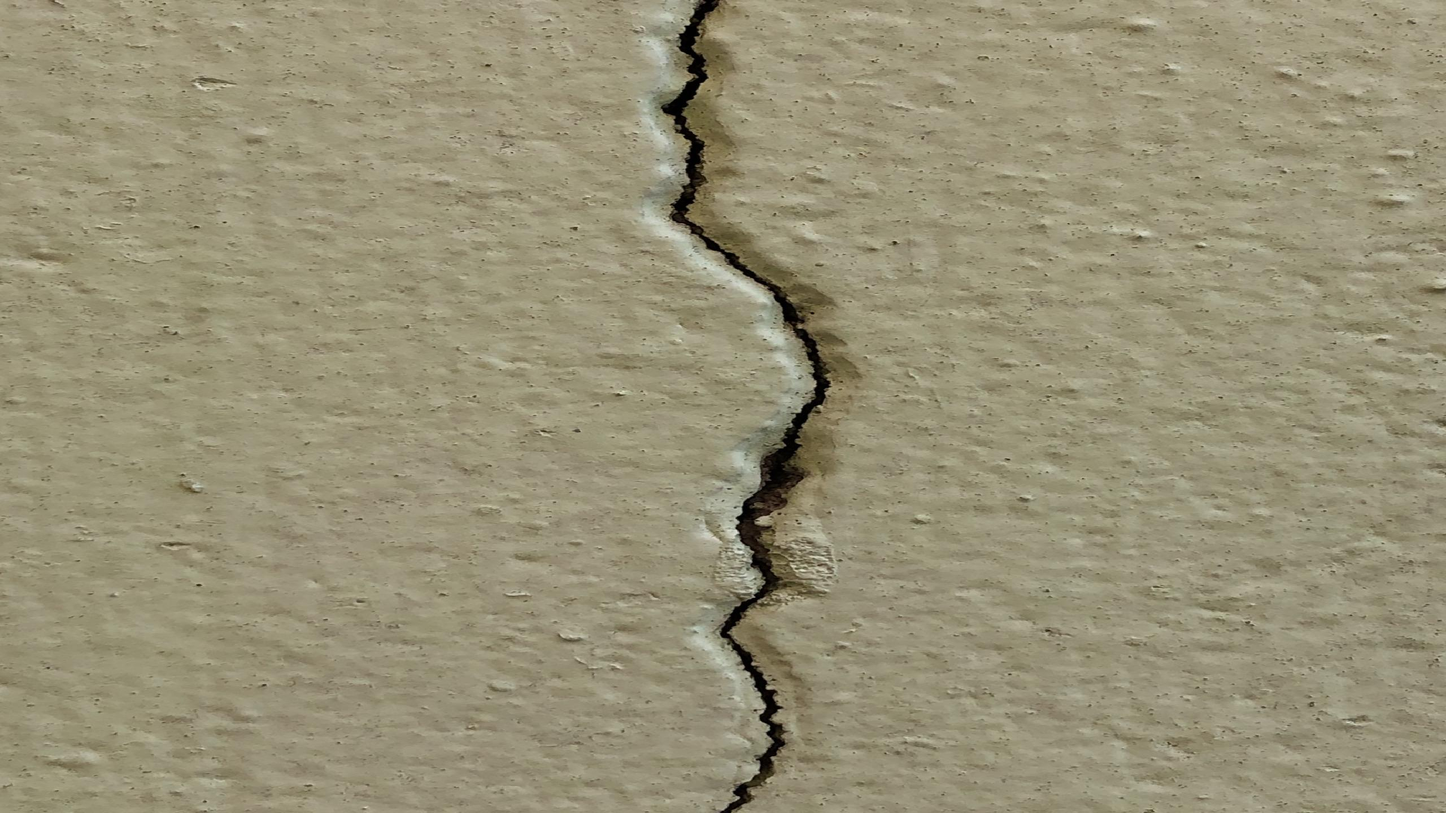crack: (664, 0, 831, 810)
